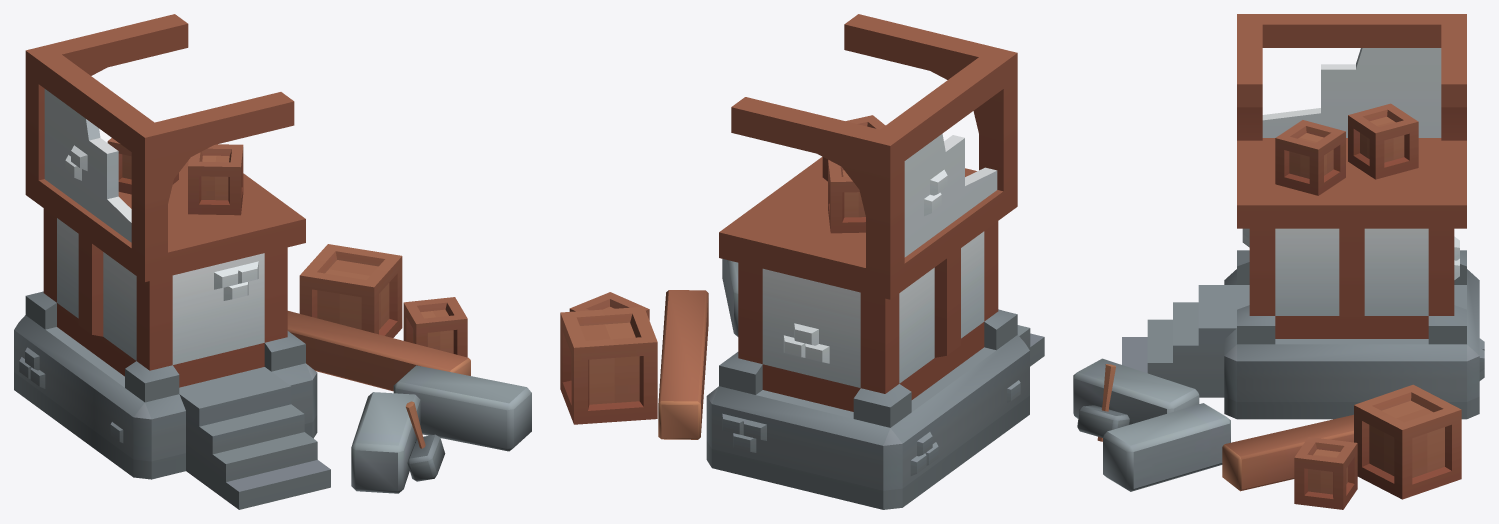
File: k-stage-c-kaykit.glb
The picture shows the model from 3 angles, left to right: view 1: azimuth 30°, elevation 25°; view 2: azimuth 150°, elevation 25°; view 3: azimuth 270°, elevation 25°; orthographic projection. The views are drawn at different scales.
Parts seen in each view (by area): view 1: building_stage_C; view 2: building_stage_C; view 3: building_stage_C.
Part boxes in pixels (box(x1,y1,x2,y2)): building_stage_C: box(14, 14, 531, 509); building_stage_C: box(560, 14, 1044, 509); building_stage_C: box(1073, 14, 1484, 509).
Size of the model in its own units: 1.16 by 0.986 by 1.13.
Materials: 1 (1 with a texture image).
